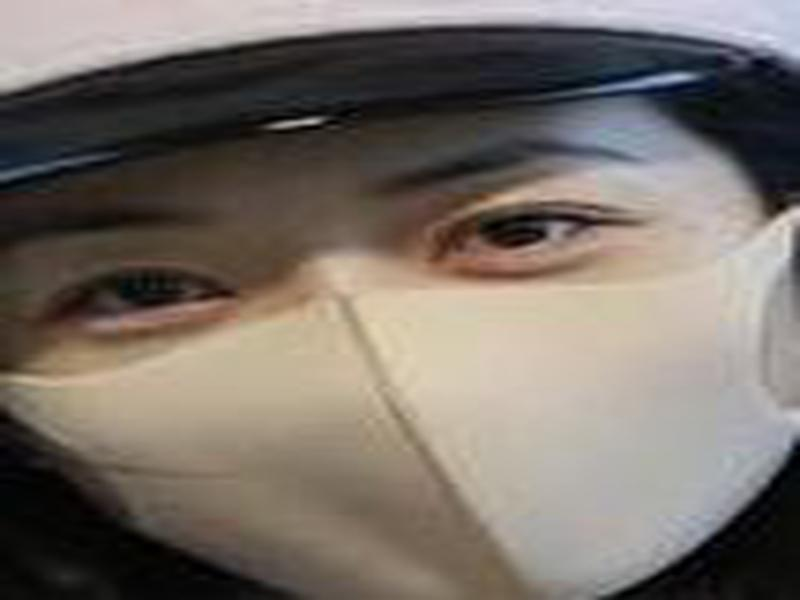with_mask: (1, 107, 793, 600)
